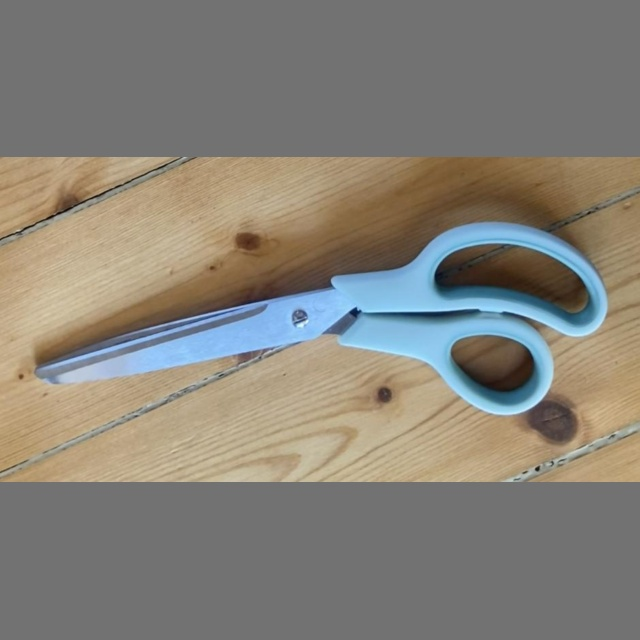scissor: (26, 213, 621, 427)
